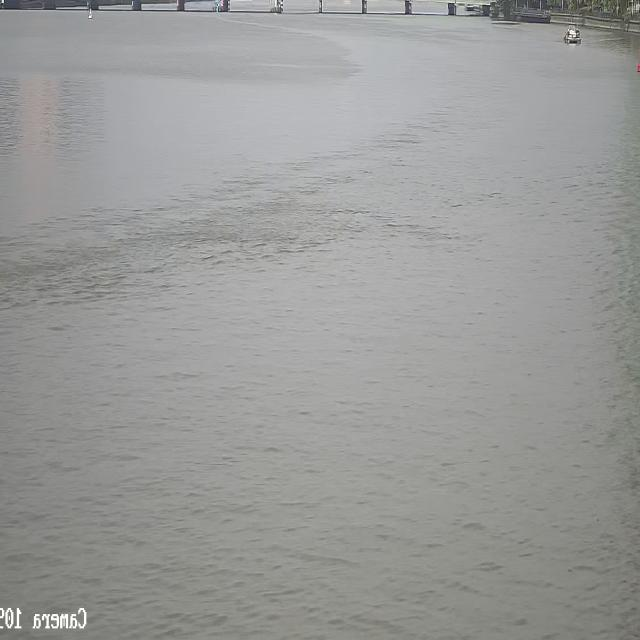ship: (564, 21, 582, 43)
